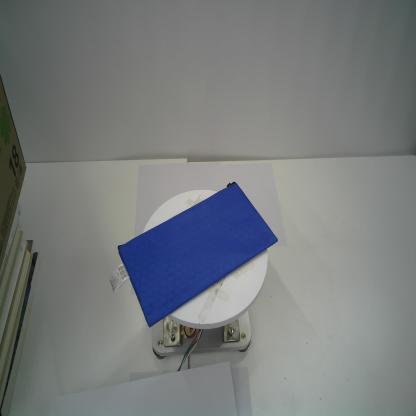Stationery: (117, 181, 278, 328)
